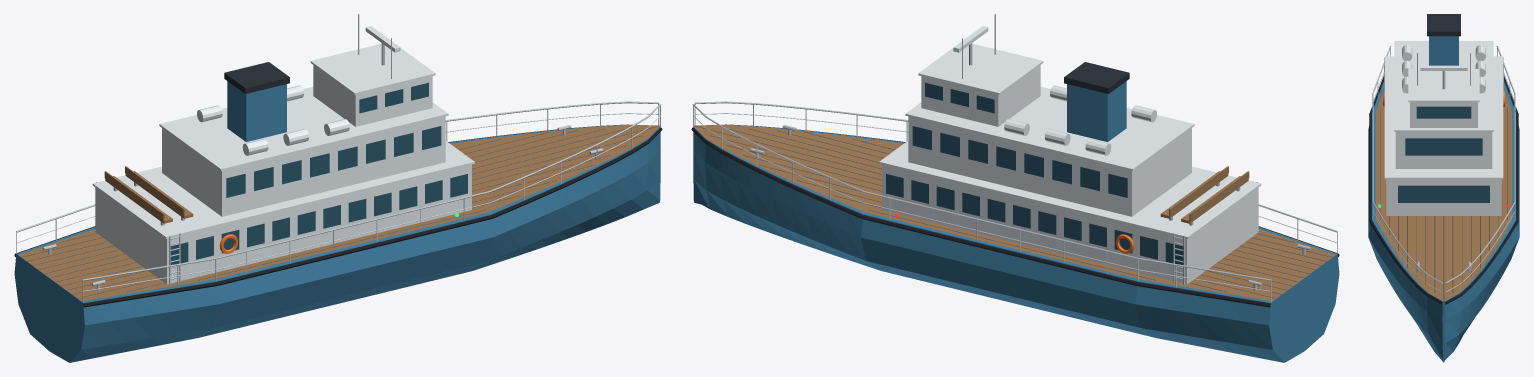
Rendered from ferry_lod0.glb.
3 renders of one model, left to right at view 1: azimuth 30°, elevation 25°; view 2: azimuth 150°, elevation 25°; view 3: azimuth 270°, elevation 25°, orthographic. The views are drawn at different scales.
Parts seen in each view (by area): view 1: body; view 2: body; view 3: body.
Boxes of the visible parts, x1=… form: body: x1=14, y1=14, x2=662, y2=362; body: x1=691, y1=14, x2=1339, y2=362; body: x1=1368, y1=14, x2=1519, y2=362.
Bounding box in the file's own units: 30.08 × 11.56 × 8.
